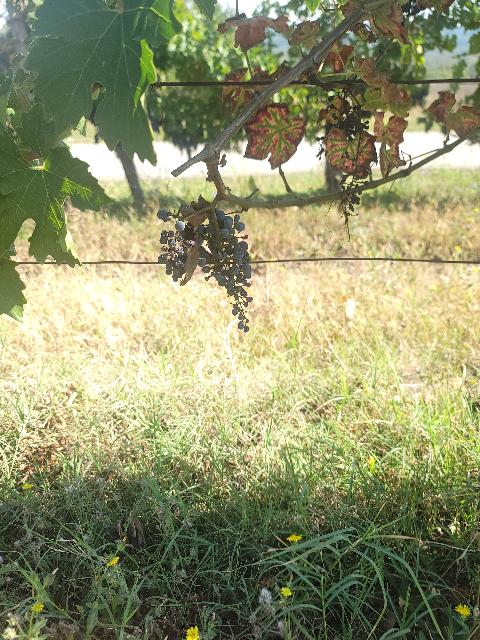grapes: (196, 209, 252, 332)
